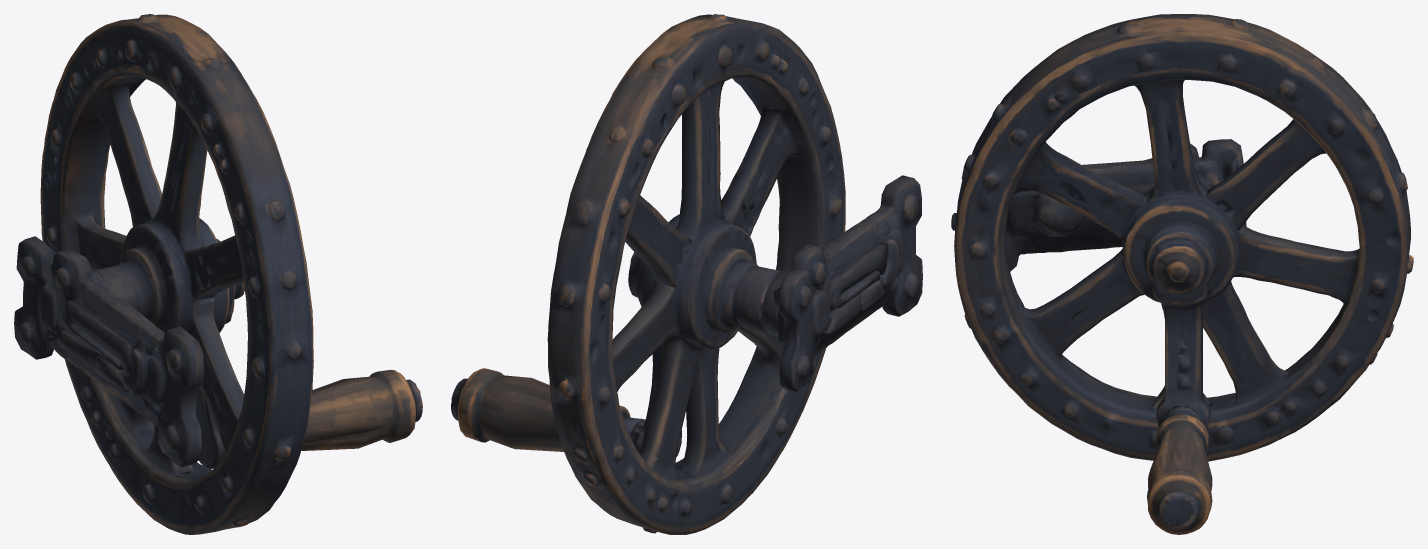
The model's file is tripo_convert_18dffbf2-421a-4a5e-bbeb-fd6d29be028e.glb.
3 views of the same model, side by side, from view 1: azimuth 30°, elevation 25°; view 2: azimuth 150°, elevation 25°; view 3: azimuth 270°, elevation 25° (orthographic). The views are drawn at different scales.
Visible parts, largest first — view 1: tripo_node_18dffbf2-421a-4a5e-bbeb-fd6d29be028e; view 2: tripo_node_18dffbf2-421a-4a5e-bbeb-fd6d29be028e; view 3: tripo_node_18dffbf2-421a-4a5e-bbeb-fd6d29be028e.
Boxes of the visible parts, x1,y1,x2,y2 form: tripo_node_18dffbf2-421a-4a5e-bbeb-fd6d29be028e: (14, 14, 422, 534); tripo_node_18dffbf2-421a-4a5e-bbeb-fd6d29be028e: (451, 14, 922, 534); tripo_node_18dffbf2-421a-4a5e-bbeb-fd6d29be028e: (951, 14, 1413, 534).
Size of the model in its own units: 0.7914 by 0.9792 by 0.9331.
Materials: 1 (1 with a texture image).
